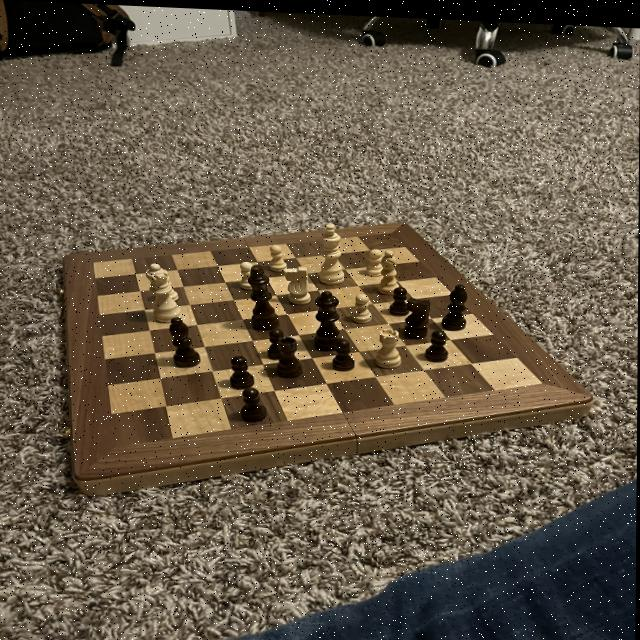bishop: (168, 313, 205, 369), (438, 277, 470, 329)
black-bishop: (245, 258, 282, 331)
black-king: (310, 285, 345, 352), (399, 289, 435, 338)
black-knight: (236, 381, 271, 422), (226, 350, 260, 390), (327, 333, 359, 371), (422, 323, 453, 361), (263, 322, 288, 359), (388, 281, 413, 314)
black-queen: (272, 331, 306, 379)
black-rook: (374, 244, 403, 294)
white-bishop: (315, 216, 348, 285)
white-king: (279, 261, 314, 304)
white-knight: (349, 287, 376, 322), (362, 241, 386, 275), (267, 239, 292, 271), (234, 258, 256, 290), (162, 270, 181, 301)
white-pawn: (143, 260, 184, 325)
white-queen: (373, 323, 405, 366)
